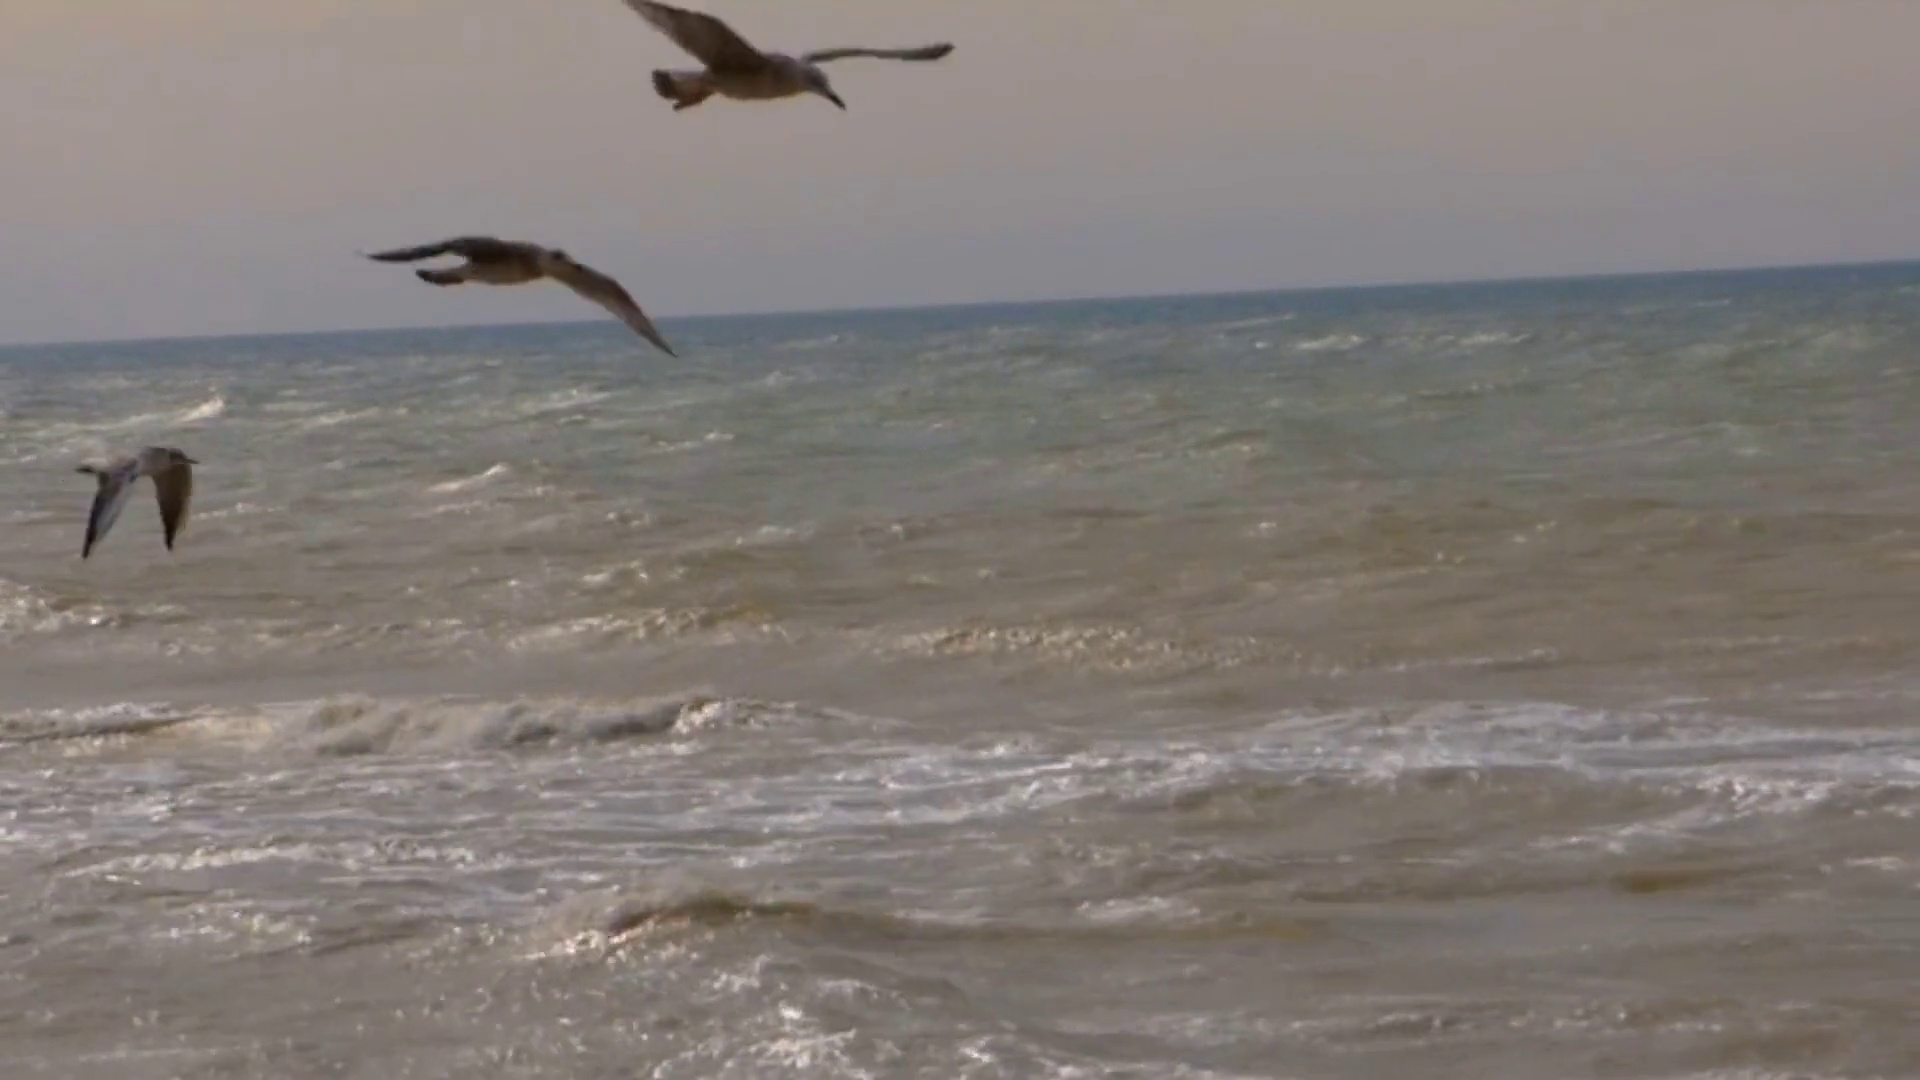bird: (363, 237, 676, 360), (625, 1, 953, 115), (69, 443, 196, 556)
